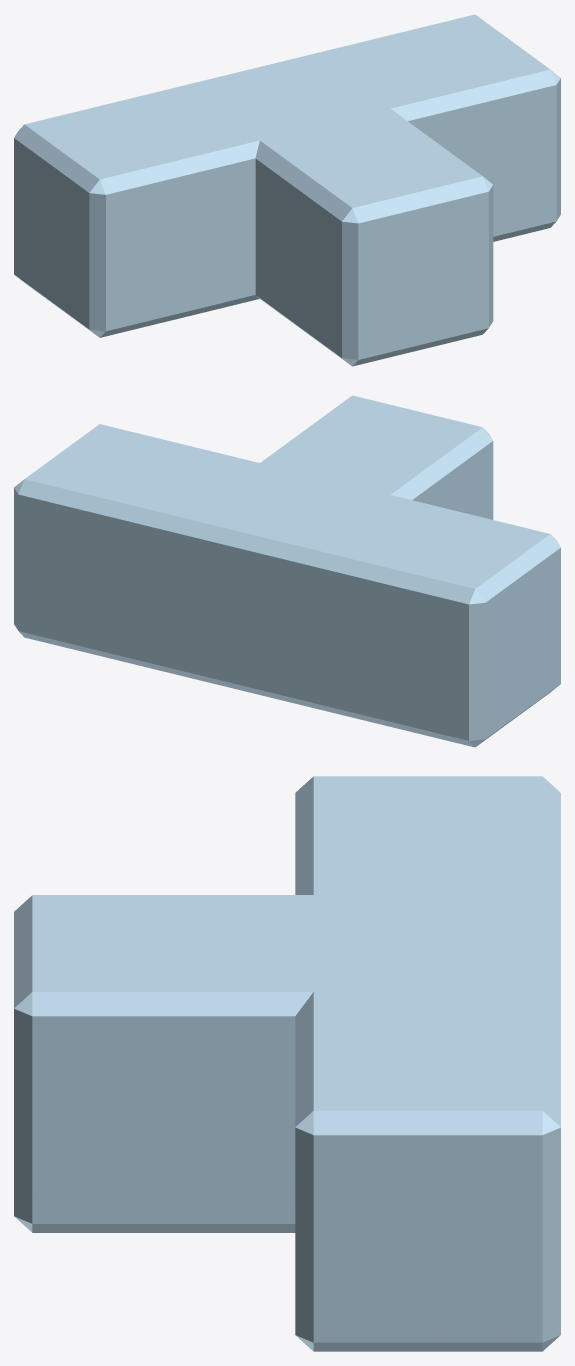
File: R4B_Tee4.glb
The picture shows the model from 3 angles, top to bottom: view 1: azimuth 30°, elevation 25°; view 2: azimuth 150°, elevation 25°; view 3: azimuth 270°, elevation 25°; orthographic projection. The views are drawn at different scales.
Visible parts, largest first — view 1: R4B_Tee4; view 2: R4B_Tee4; view 3: R4B_Tee4.
Part boxes in pixels (x1,y1,x2,y2): R4B_Tee4: (14,14,560,366); R4B_Tee4: (14,395,560,747); R4B_Tee4: (14,776,560,1351).
Bounding box in the file's own units: 1.62 × 0.52 × 1.07.
